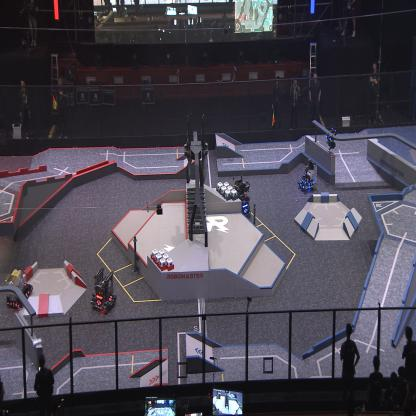car: (90, 267, 116, 314), (4, 270, 33, 309), (233, 176, 251, 218), (297, 158, 318, 194)
